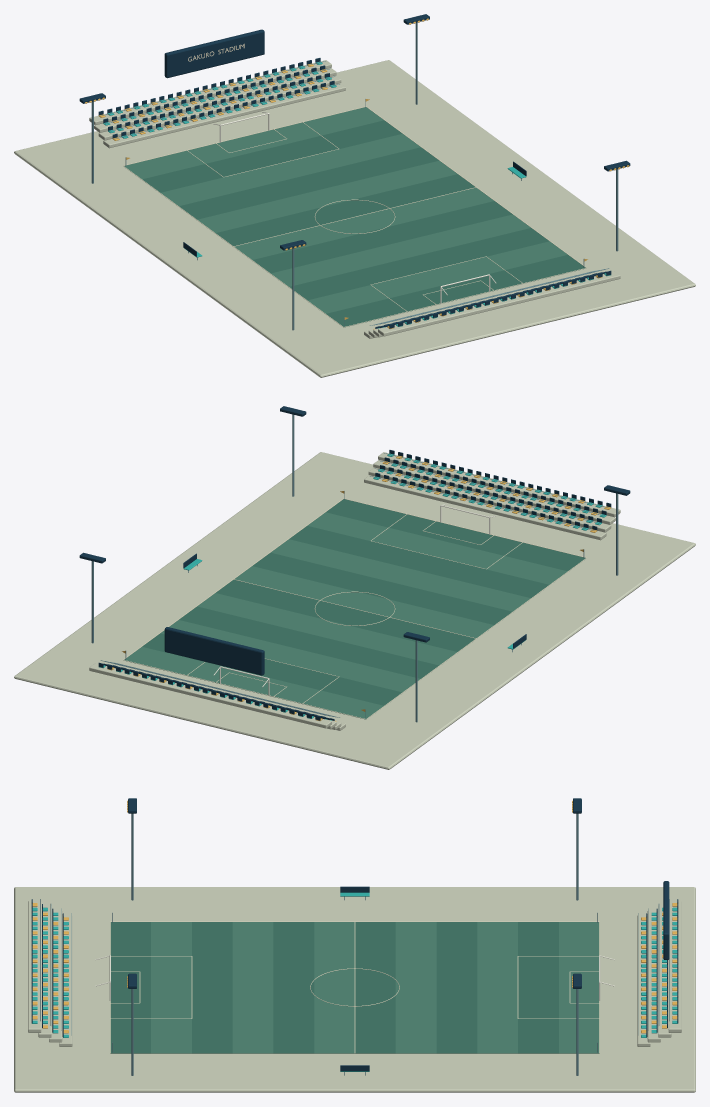
The model's file is soccer-stadium.glb.
3 renders of one model, top to bottom at view 1: azimuth 30°, elevation 25°; view 2: azimuth 150°, elevation 25°; view 3: azimuth 270°, elevation 25°, orthographic. The views are drawn at different scales.
Parts seen in each view (by area): view 1: Venue; view 2: Venue; view 3: Venue.
Boxes of the visible parts, bbox=[...] form: Venue: bbox=[14, 14, 695, 377]; Venue: bbox=[14, 406, 695, 769]; Venue: bbox=[14, 798, 695, 1092].
Bounding box in the file's own units: 65 × 14.81 × 92.
